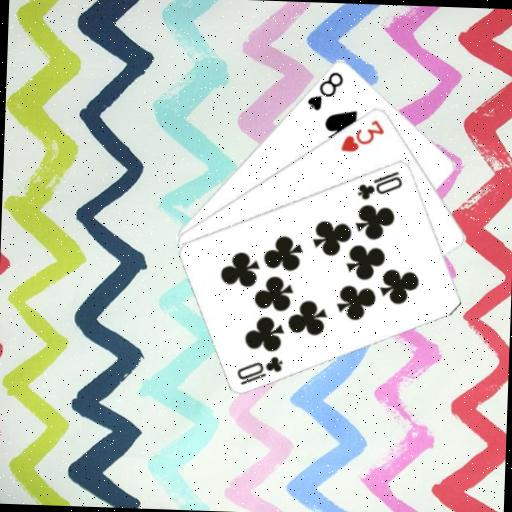10C: (233, 350, 285, 387), (353, 165, 404, 202)
3H: (337, 115, 387, 155)
8S: (303, 67, 345, 113)
